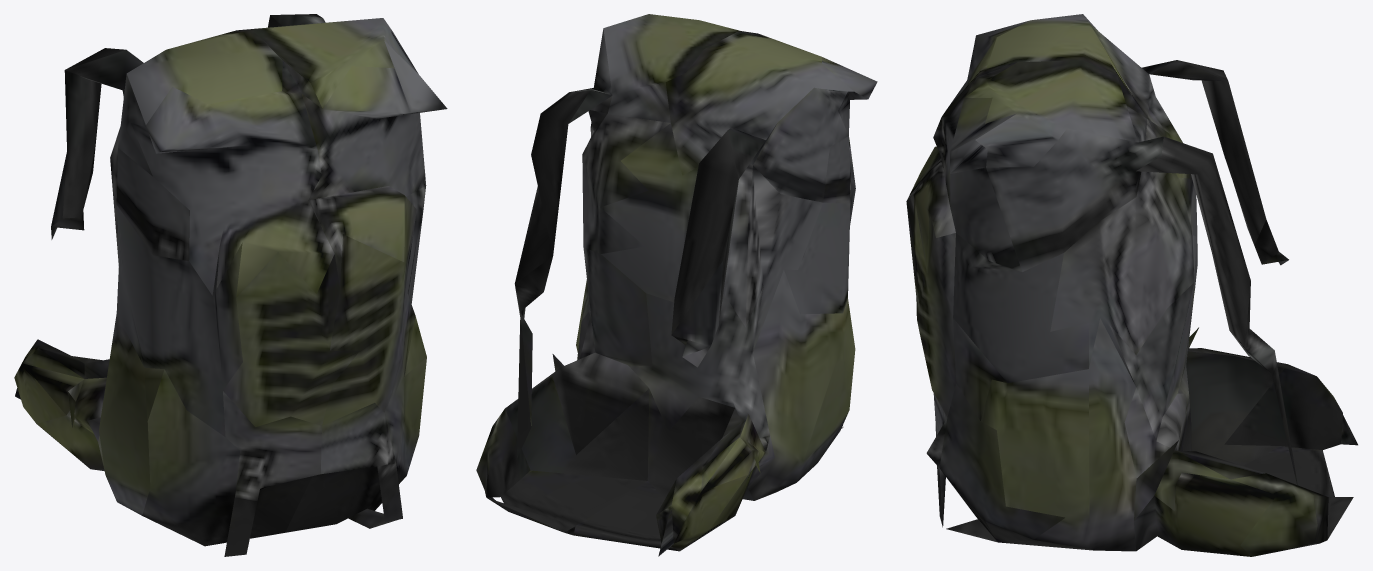
The model's file is tas_ransel_lod2.glb.
The picture shows the model from 3 angles, left to right: view 1: azimuth 30°, elevation 25°; view 2: azimuth 150°, elevation 25°; view 3: azimuth 270°, elevation 25°; orthographic projection. The views are drawn at different scales.
Visible parts, largest first — view 1: tripo_node_fffae515-69fe-4355-b12d-b7402e3358c9.001; view 2: tripo_node_fffae515-69fe-4355-b12d-b7402e3358c9.001; view 3: tripo_node_fffae515-69fe-4355-b12d-b7402e3358c9.001.
Part boxes in pixels (x1,y1,x2,y2): tripo_node_fffae515-69fe-4355-b12d-b7402e3358c9.001: (14, 14, 447, 556); tripo_node_fffae515-69fe-4355-b12d-b7402e3358c9.001: (476, 14, 877, 556); tripo_node_fffae515-69fe-4355-b12d-b7402e3358c9.001: (906, 14, 1357, 556).
Bounding box in the file's own units: 19.93 × 31.6 × 28.66.
Materials: 1 (1 with a texture image).
